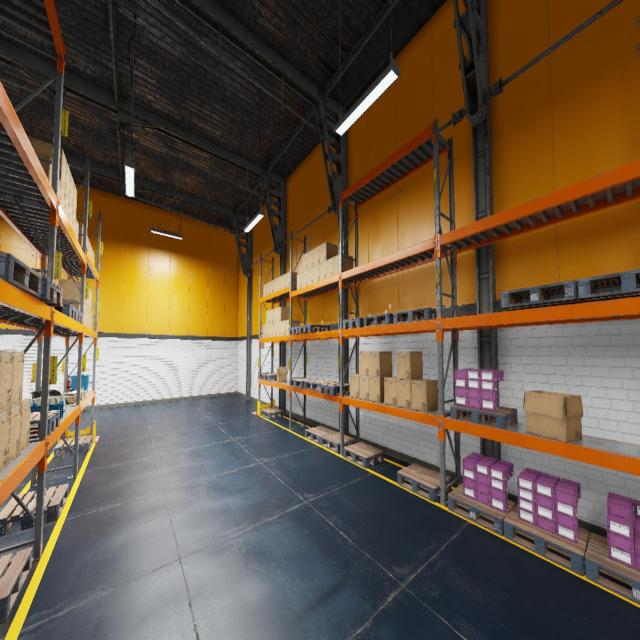box: (524, 391, 584, 442), (27, 136, 67, 192), (411, 379, 438, 412), (8, 403, 22, 465), (0, 351, 13, 412), (58, 278, 86, 306), (11, 351, 24, 407), (397, 351, 422, 380), (19, 398, 31, 455), (0, 408, 10, 471), (35, 151, 52, 185), (369, 352, 392, 377), (369, 377, 392, 402), (397, 379, 411, 409), (334, 254, 353, 275), (384, 376, 397, 406), (320, 242, 338, 263), (359, 375, 369, 401), (359, 352, 369, 376), (285, 319, 300, 335), (62, 298, 80, 311), (350, 374, 359, 398), (68, 386, 83, 399), (275, 367, 288, 382), (277, 306, 289, 322), (286, 271, 298, 287), (69, 172, 74, 210), (326, 257, 334, 278), (66, 162, 70, 201), (60, 183, 65, 212), (73, 183, 77, 218), (314, 245, 320, 266), (78, 222, 83, 246), (307, 249, 313, 269), (320, 261, 326, 280), (64, 395, 76, 404), (314, 264, 320, 282), (307, 267, 313, 285), (65, 194, 69, 220), (296, 272, 302, 289), (68, 203, 72, 228), (302, 252, 307, 272), (72, 212, 76, 234), (75, 219, 79, 240), (302, 270, 307, 286), (58, 178, 61, 203), (281, 274, 286, 288), (281, 320, 285, 336), (85, 306, 88, 326), (276, 321, 280, 336), (273, 322, 277, 337), (269, 323, 273, 337), (262, 324, 266, 338), (273, 308, 277, 322), (269, 309, 273, 323), (278, 276, 282, 290), (266, 282, 270, 295), (88, 287, 90, 309), (266, 310, 269, 324), (274, 278, 277, 292), (270, 280, 273, 294), (84, 305, 86, 325), (88, 308, 90, 328), (90, 290, 92, 310), (266, 324, 269, 337), (89, 310, 91, 328), (82, 390, 86, 398), (88, 240, 90, 254), (90, 244, 92, 258), (93, 252, 95, 265), (264, 284, 266, 296), (86, 299, 88, 308), (91, 312, 92, 329), (87, 236, 88, 250), (92, 248, 93, 262)
pallets: (504, 504, 589, 576), (584, 532, 640, 605), (447, 482, 516, 536), (0, 484, 69, 536), (0, 547, 32, 624), (501, 280, 582, 310), (397, 463, 451, 502), (577, 269, 640, 302), (0, 252, 42, 297), (450, 405, 518, 429), (343, 442, 384, 468), (30, 409, 60, 438), (35, 277, 63, 307), (54, 435, 92, 457), (320, 432, 355, 453), (394, 308, 436, 323), (305, 425, 336, 444), (54, 302, 77, 320), (318, 382, 349, 395), (57, 310, 83, 324), (364, 314, 394, 326), (304, 380, 336, 391), (342, 317, 370, 329), (290, 378, 318, 388), (298, 324, 329, 333), (261, 408, 283, 419), (261, 374, 276, 381), (288, 326, 301, 334)
